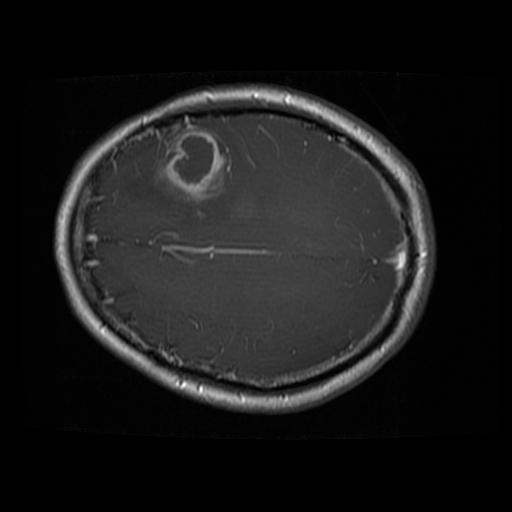glioma: (152, 125, 232, 203)
